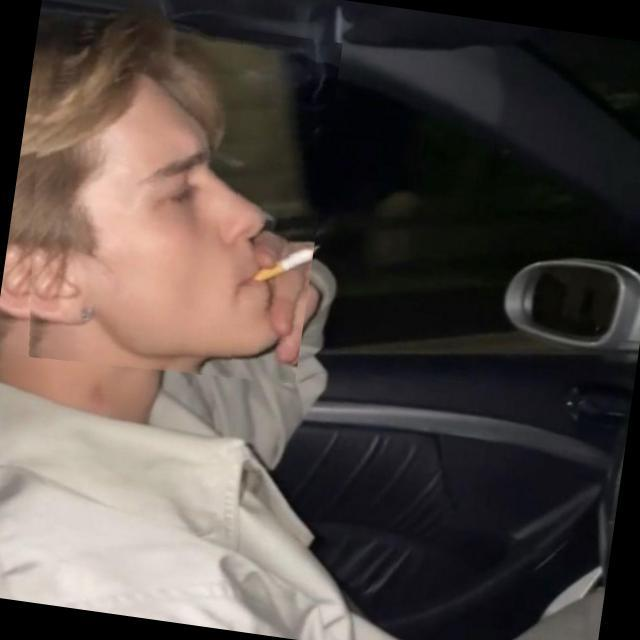cigarette: (211, 236, 316, 311)
